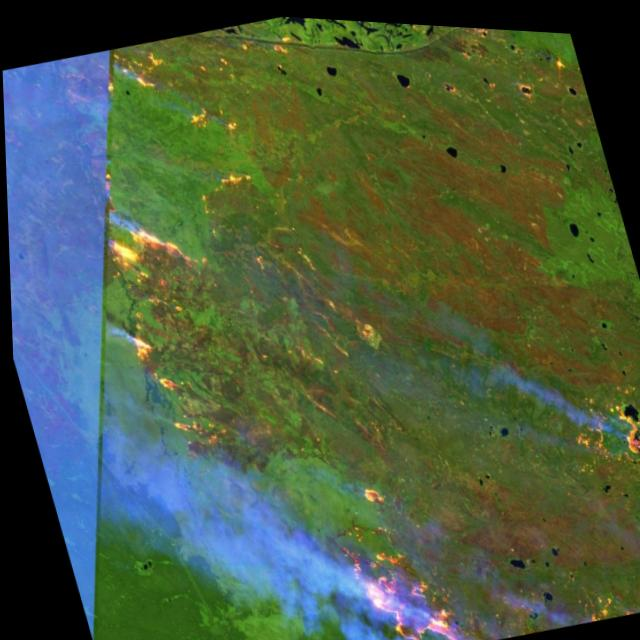fire: (305, 436, 478, 640), (104, 289, 236, 472), (114, 29, 246, 160), (100, 188, 205, 315), (555, 346, 640, 486), (567, 574, 620, 618)
